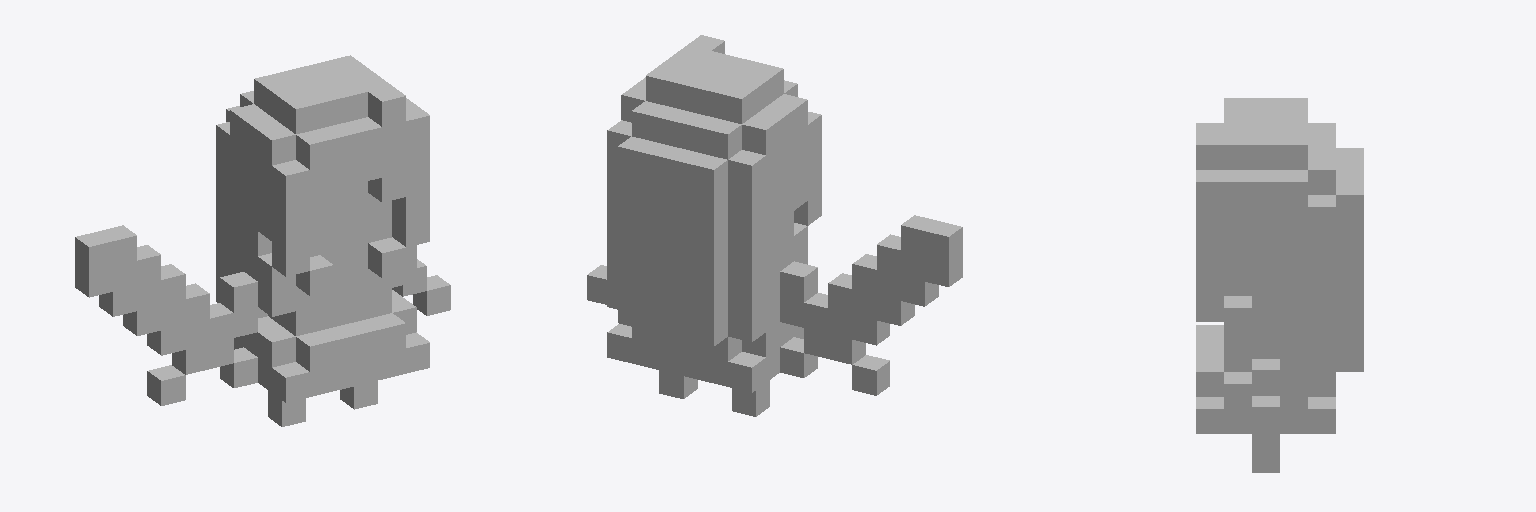
Rendered from chr_knight.obj.
The picture shows the model from 3 angles: view 1: azimuth 30°, elevation 25°; view 2: azimuth 150°, elevation 25°; view 3: azimuth 270°, elevation 25°; orthographic projection.
Visible parts, largest first — view 1: object 1; view 2: object 1; view 3: object 1.
Boxes of the visible parts, x1,y1,x2,y2 form: object 1: [75, 55, 450, 426]; object 1: [587, 35, 962, 416]; object 1: [1196, 98, 1363, 472].
Bounding box in the file's own units: 1.5 × 1.3 × 0.6.